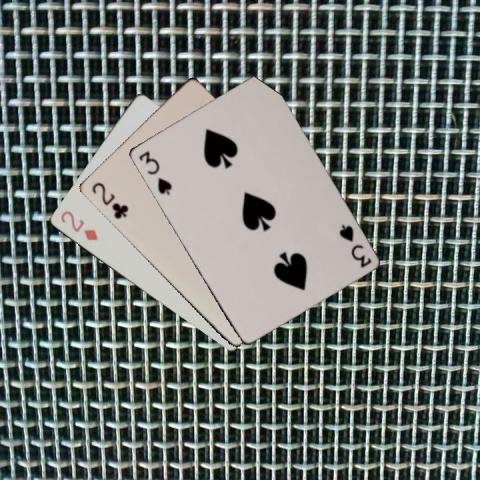2c: (88, 179, 130, 221)
2d: (57, 207, 98, 243)
3s: (136, 148, 174, 196), (335, 221, 373, 269)
